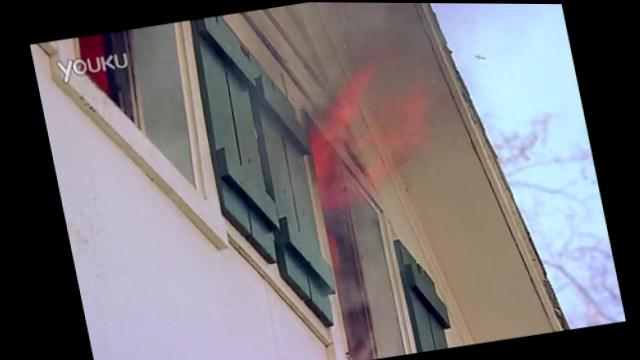fire: (305, 120, 344, 207), (325, 100, 349, 136), (324, 233, 338, 264)
